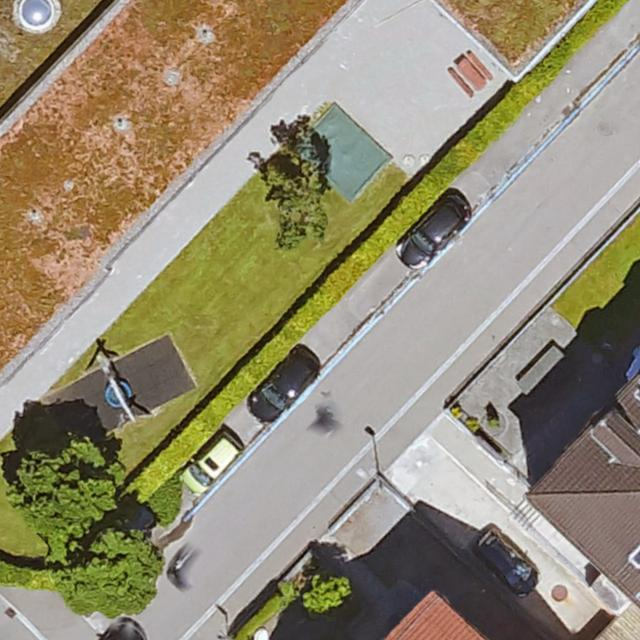tree: (14, 442, 119, 536), (56, 528, 163, 614), (268, 154, 328, 247), (303, 575, 355, 621)
